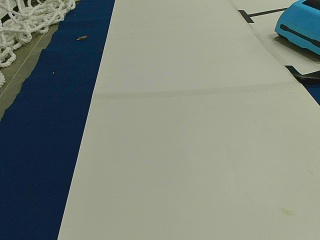car: (274, 0, 319, 54)
